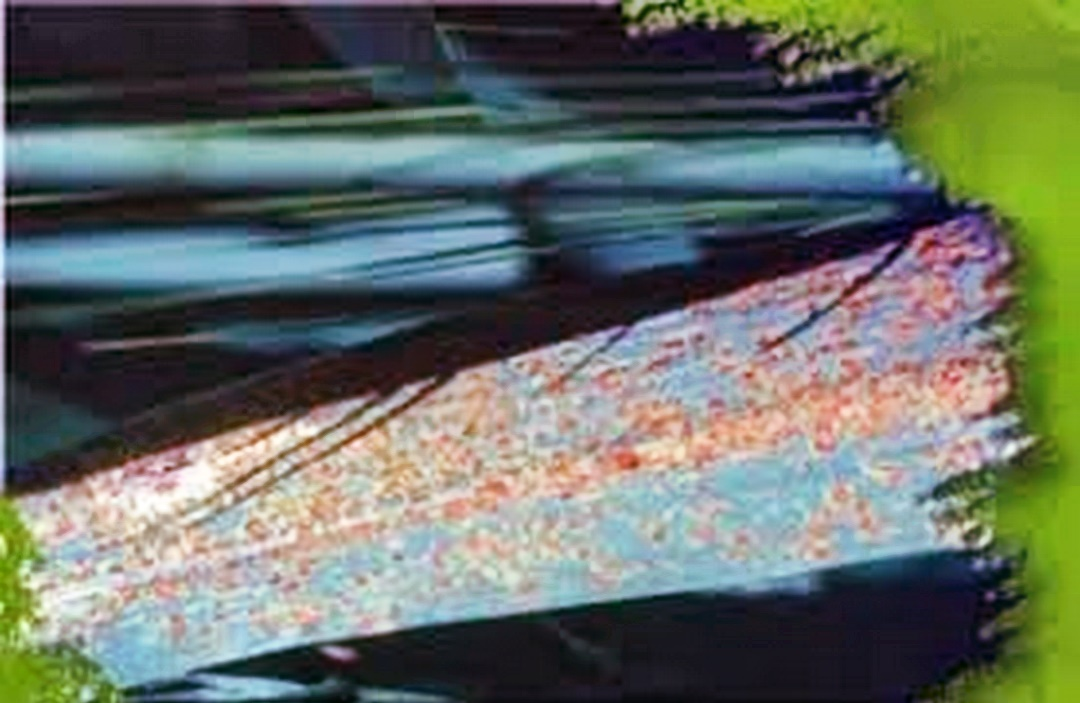Leaf Rust: (214, 288, 815, 613)
